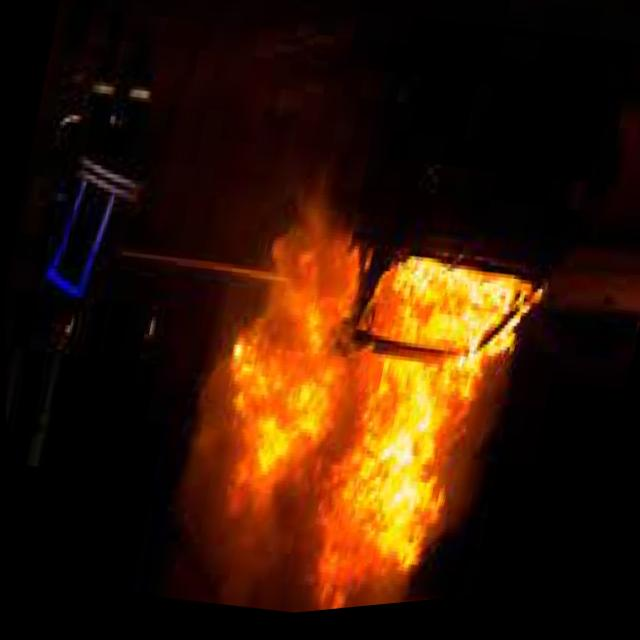Fire: (169, 277, 508, 627), (393, 268, 529, 337)
